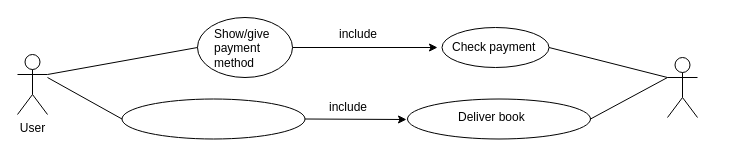
The diagram is 738 pixels wide and 157 high, and some of its shapes have lost their labels. Each missing label, with the centre of its shape:
Delivery agent: the point at 682,87
Retrieve book: the point at 213,118
